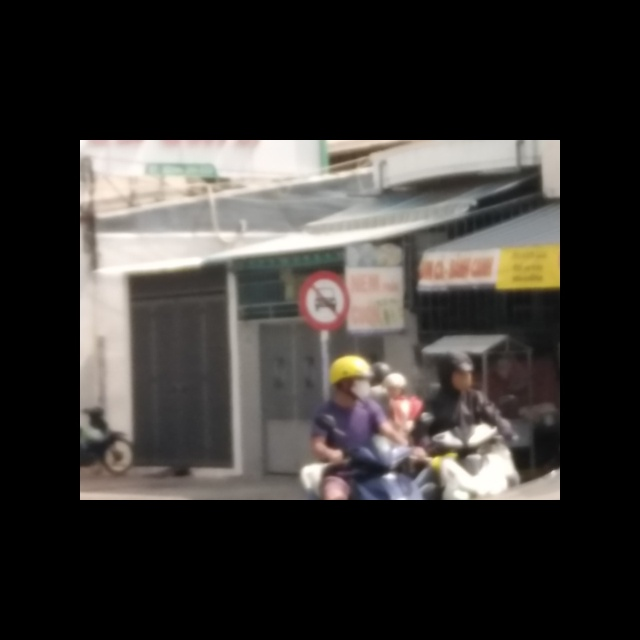Cấm xe ô tô: (298, 268, 353, 332)
